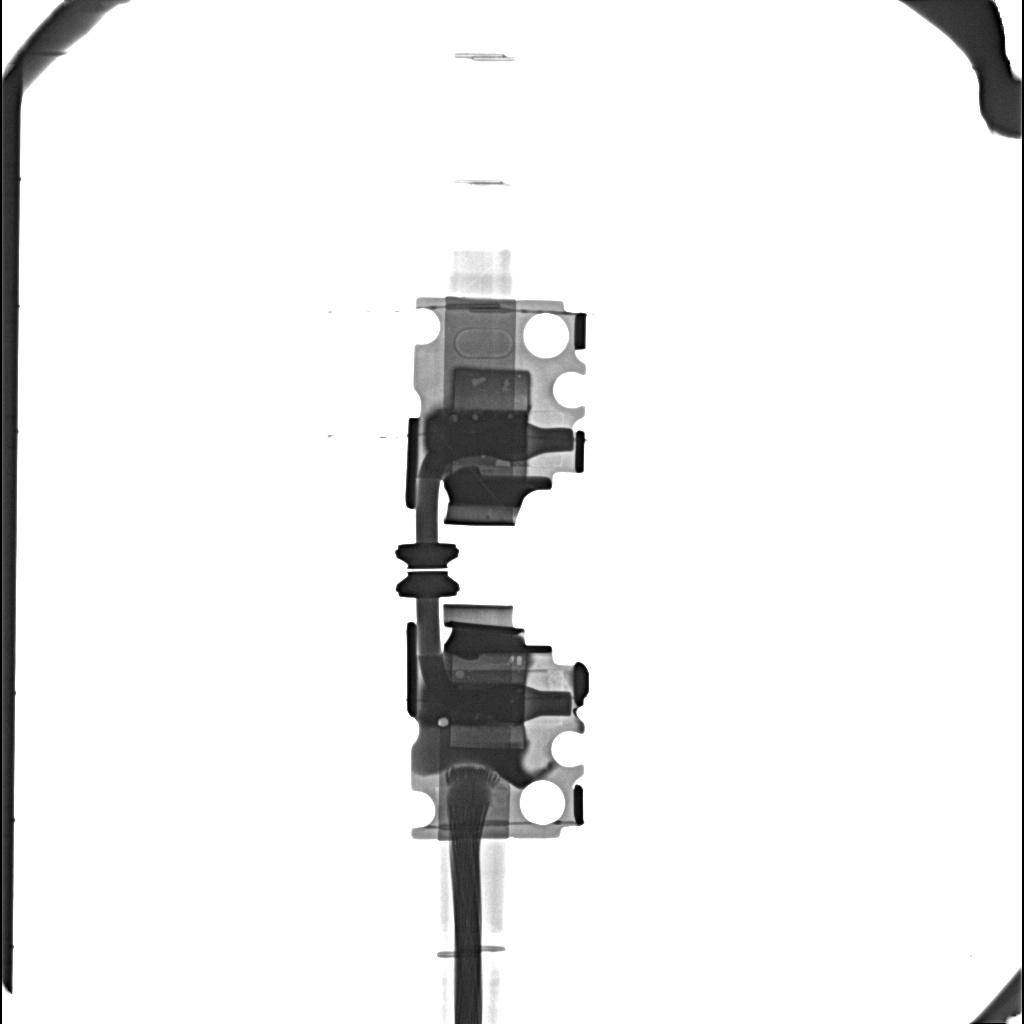defect: (427, 410, 527, 458), (423, 681, 524, 727), (452, 368, 531, 409), (448, 724, 528, 751), (496, 458, 512, 467), (517, 656, 523, 666), (508, 655, 514, 663)
